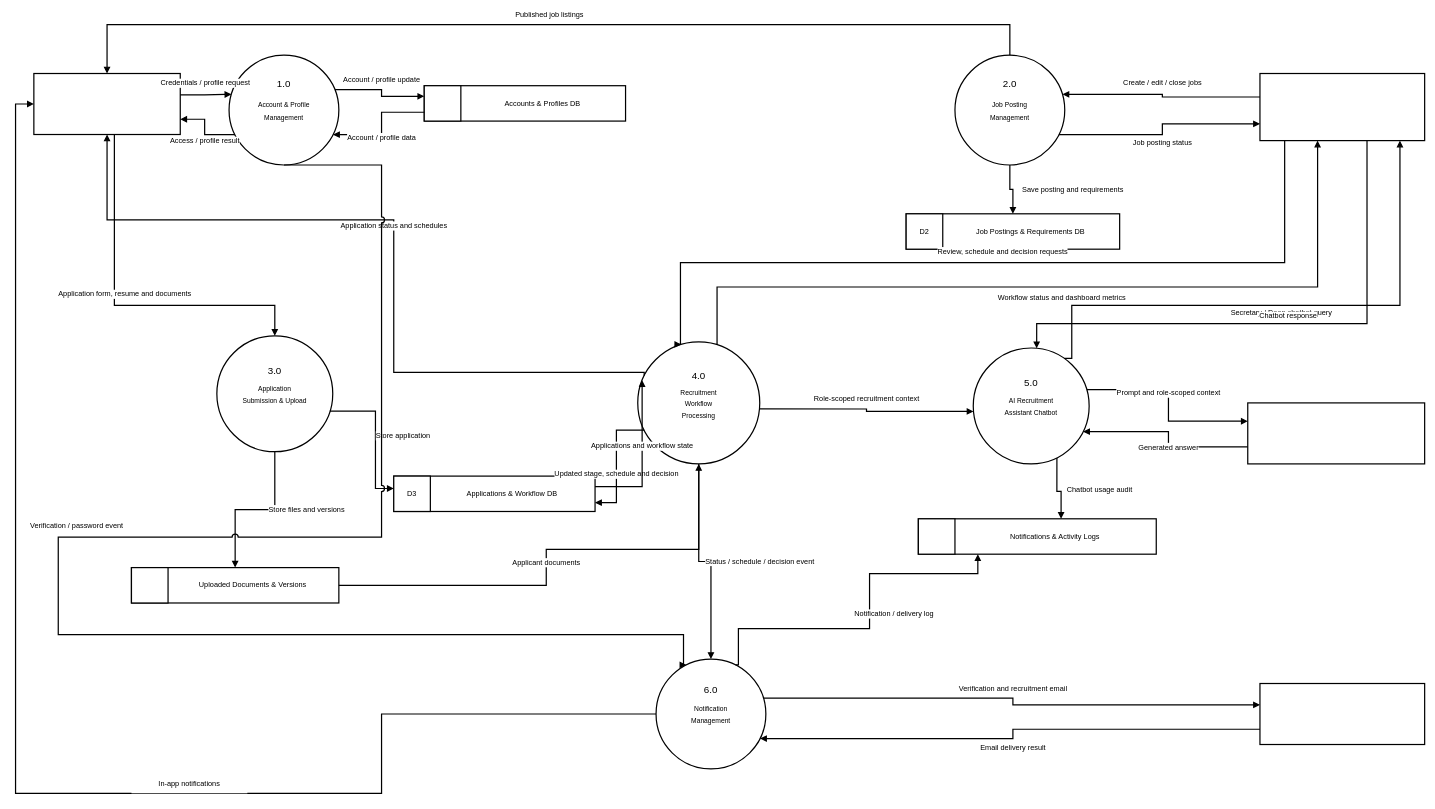
This 1435x809 diagram has some shape labels left out. The shapes that lost their labels are listed below. From the top down, each one's centre as x and y in pixels, then its label:
(107,104): Applicant Job Seeker
(442,103): D1
(1342,107): Recruitment Staff Administrator / Secretary / Dean
(1336,433): Groq AI Service Recruitment Chatbot Only
(936,536): D5
(149,585): D4
(1342,714): Email / Notification Service
